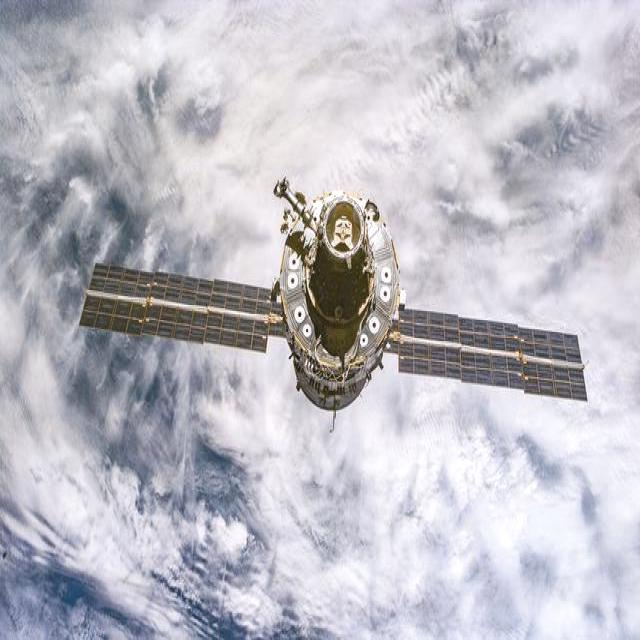medium_debris: (80, 178, 586, 410)
